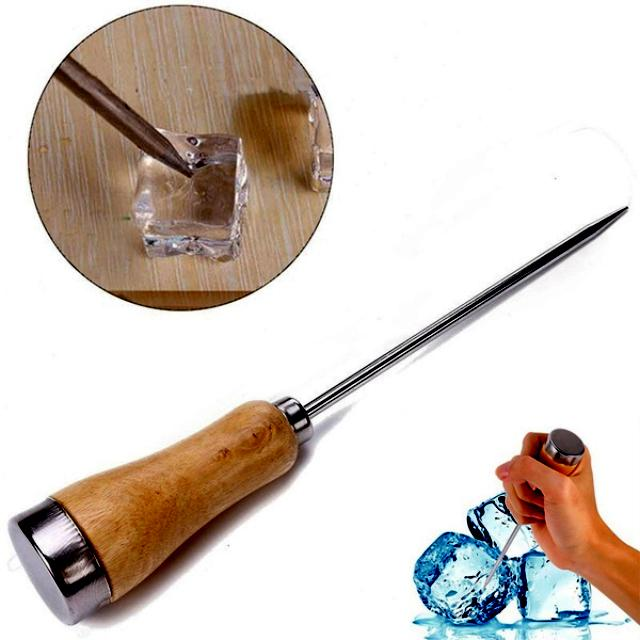ice pick: (7, 206, 627, 626), (482, 425, 586, 591), (54, 56, 194, 176)
